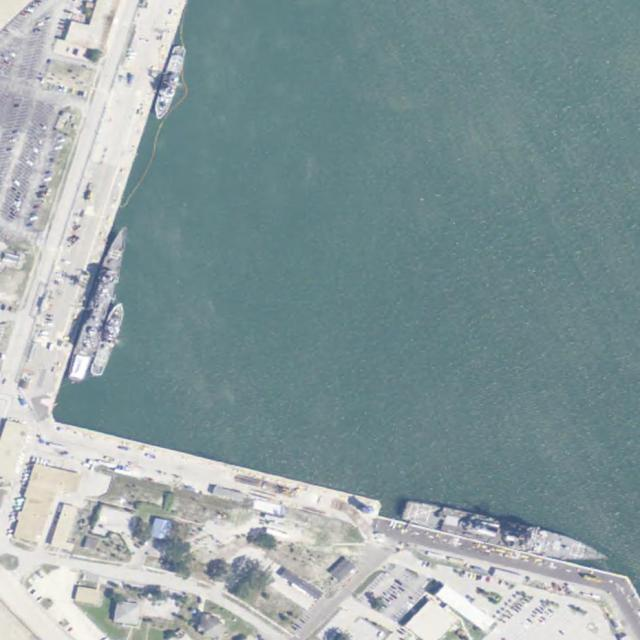Destroyer: (399, 497, 612, 568)
Frigate: (65, 222, 131, 387)
Other Warship: (91, 299, 128, 381), (153, 43, 189, 122)
